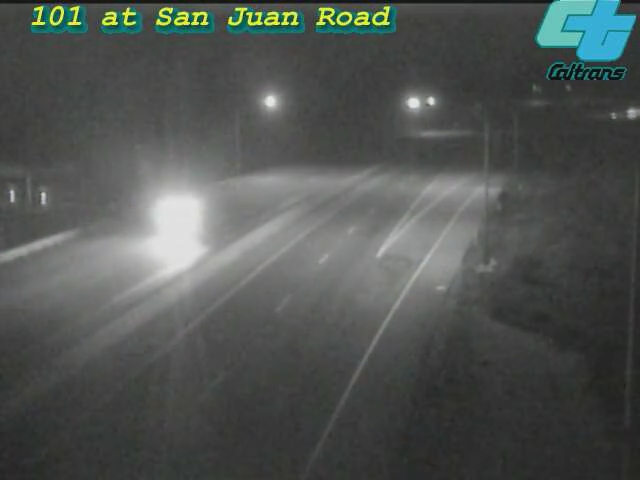vehicle: (125, 184, 205, 264), (607, 89, 640, 139)
